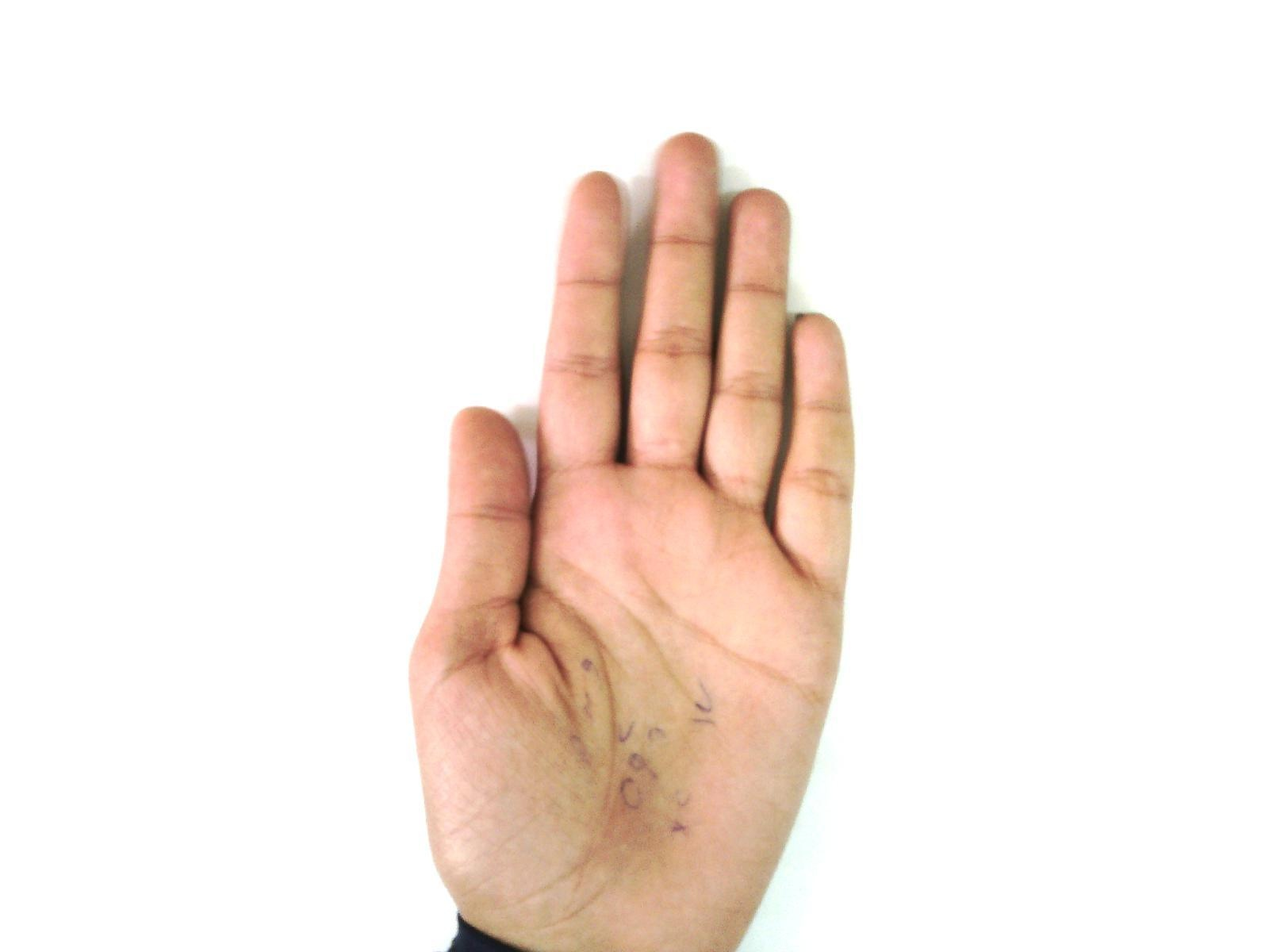open_palm: (406, 132, 859, 950)
